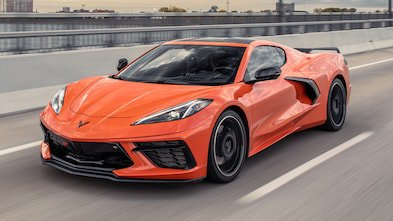car: (37, 37, 355, 184)
